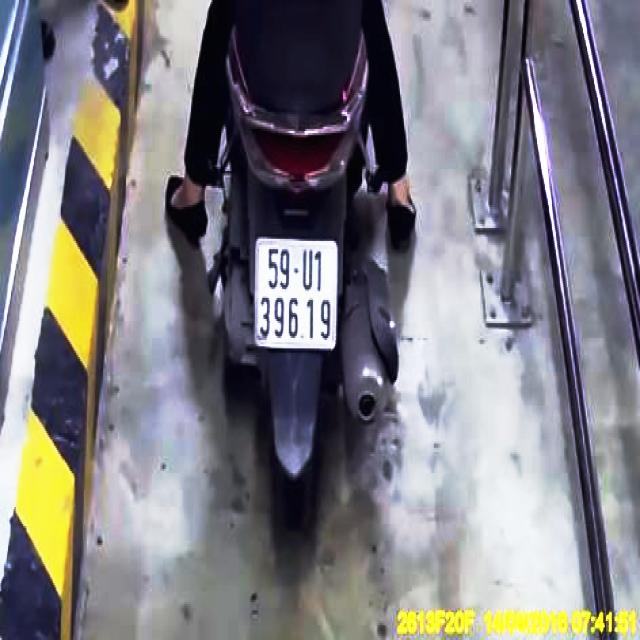license_plate: (258, 241, 338, 348)
